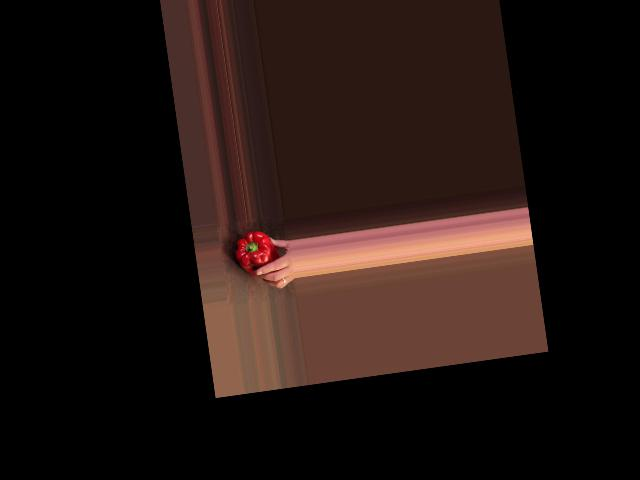bell_pepper: (231, 227, 279, 276)
